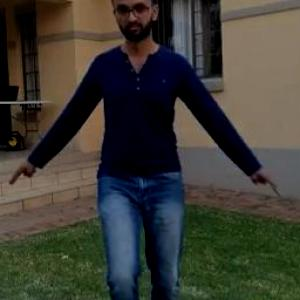land: (72, 19, 209, 255)
